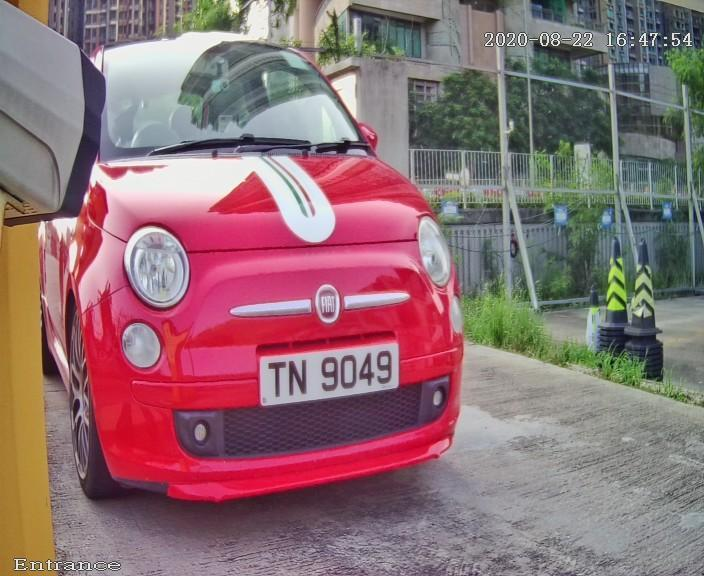Car: (23, 6, 519, 566)
License Plate: (252, 330, 409, 420)
